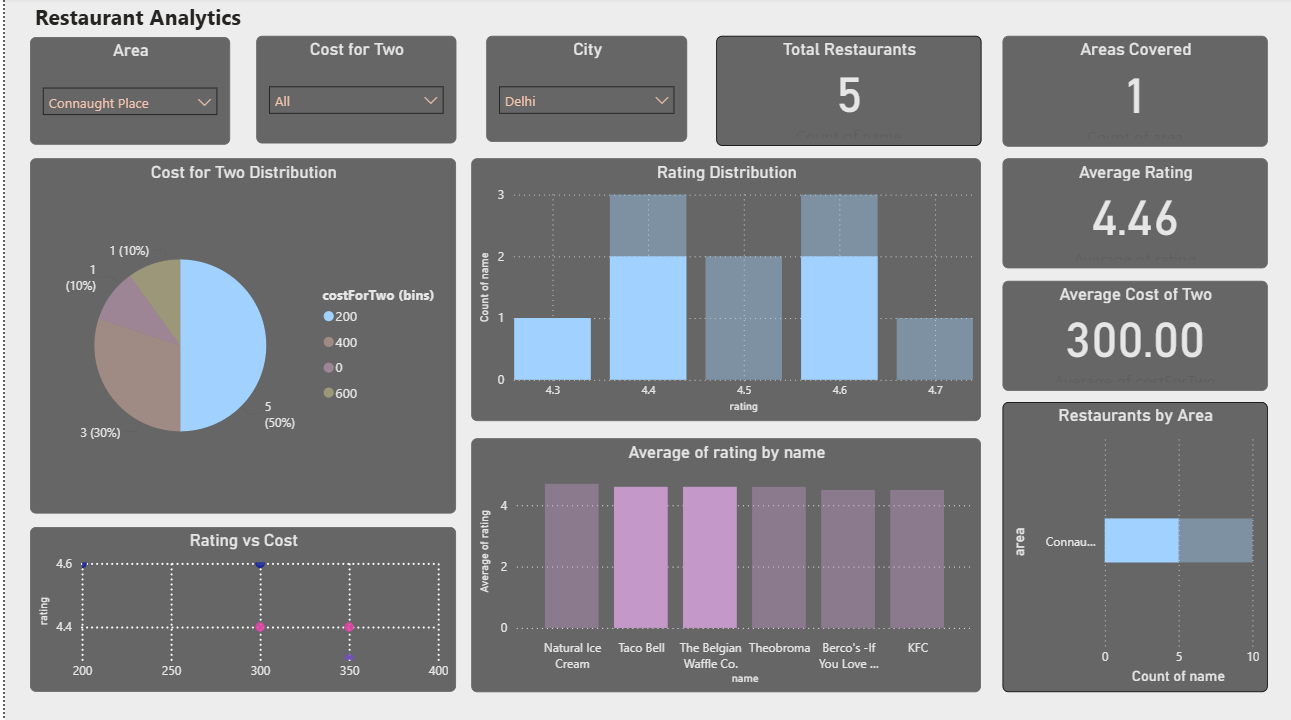

The dashboard page shown, as its layout file describes it:
{"tool":"powerbi","page":{"name":"Page 1","canvas":[1280,720],"ordinal":0},"visuals":[{"type":"textbox","box":[24.9,0,398.1,46],"z":0},{"type":"card","title":"Average Rating","fields":{"Values":["Avg(restaurants_all_cities.rating)"]},"box":[992.7,160.5,263.7,109.5],"z":1000},{"type":"card","title":"Total Restaurants","fields":{"Values":["CountNonNull(restaurants_all_cities.name)"]},"box":[707.8,38.6,263.7,109.5],"z":2000},{"type":"card","title":"Average Cost of Two","fields":{"Values":["Avg(restaurants_all_cities.costForTwo)"]},"box":[992.7,282.4,263.7,109.5],"z":3000},{"type":"card","title":"Areas Covered","fields":{"Values":["Count(restaurants_all_cities.area)"]},"box":[992.7,38.6,263.7,110.7],"z":4000},{"type":"clusteredBarChart","title":"Restaurants by Area","fields":{"Y":["CountNonNull(restaurants_all_cities.name)"],"Category":["restaurants_all_cities.area"]},"box":[992.7,403,263.7,288.6],"z":5000},{"type":"clusteredColumnChart","title":"Rating Distribution","fields":{"Category":["restaurants_all_cities.rating"],"Y":["CountNonNull(restaurants_all_cities.name)"]},"box":[464,160.5,507.5,261.2],"z":6000},{"type":"pieChart","title":"Cost for Two Distribution","fields":{"Category":["restaurants_all_cities.costForTwo (bins)"],"Y":["CountNonNull(restaurants_all_cities.name)"]},"box":[24.9,160.5,424.2,353.3],"z":7000},{"type":"scatterChart","title":"Rating vs Cost","fields":{"X":["restaurants_all_cities.costForTwo"],"Y":["restaurants_all_cities.rating"]},"box":[24.9,527.4,424.2,164.2],"z":8000},{"type":"slicer","title":"Area","fields":{"Values":["restaurants_all_cities.area"]},"box":[24.9,39.8,199,107],"z":9000},{"type":"slicer","title":"Cost for Two","fields":{"Values":["restaurants_all_cities.costForTwo"]},"box":[250,38.6,199,107],"z":10000},{"type":"clusteredColumnChart","fields":{"Category":["restaurants_all_cities.name"],"Y":["Avg(restaurants_all_cities.rating)"]},"box":[464,439.1,507.5,252.5],"z":11000},{"type":"slicer","title":"City","fields":{"Values":["restaurants_all_cities.city"]},"box":[478.9,38.6,200.3,105.7],"z":12000}]}

Visuals, with their boxes in screenshot pixels (x1, y1, x2, y2), scaled from the page's 1280x720 canvas onto the 1291x720 screenshot:
textbox: <bbox>25, 0, 427, 46</bbox>
"Average Rating" card: <bbox>1001, 160, 1267, 270</bbox>
"Total Restaurants" card: <bbox>714, 39, 980, 148</bbox>
"Average Cost of Two" card: <bbox>1001, 282, 1267, 392</bbox>
"Areas Covered" card: <bbox>1001, 39, 1267, 149</bbox>
"Restaurants by Area" clusteredBarChart: <bbox>1001, 403, 1267, 692</bbox>
"Rating Distribution" clusteredColumnChart: <bbox>468, 160, 980, 422</bbox>
"Cost for Two Distribution" pieChart: <bbox>25, 160, 453, 514</bbox>
"Rating vs Cost" scatterChart: <bbox>25, 527, 453, 692</bbox>
"Area" slicer: <bbox>25, 40, 226, 147</bbox>
"Cost for Two" slicer: <bbox>252, 39, 453, 146</bbox>
clusteredColumnChart - restaurants_all_cities.name x Avg(restaurants_all_cities.rating): <bbox>468, 439, 980, 692</bbox>
"City" slicer: <bbox>483, 39, 685, 144</bbox>
